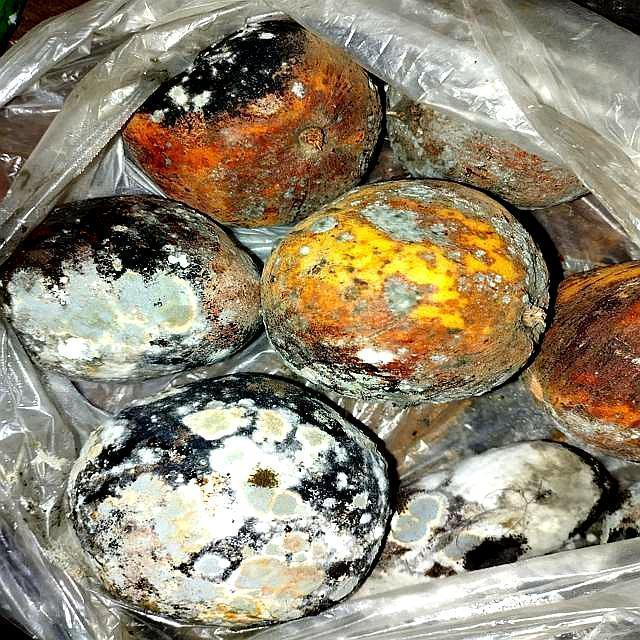Biodegradable: (76, 376, 364, 622), (266, 183, 546, 399), (1, 196, 263, 370), (129, 22, 383, 188), (409, 448, 605, 556), (545, 259, 640, 465)
